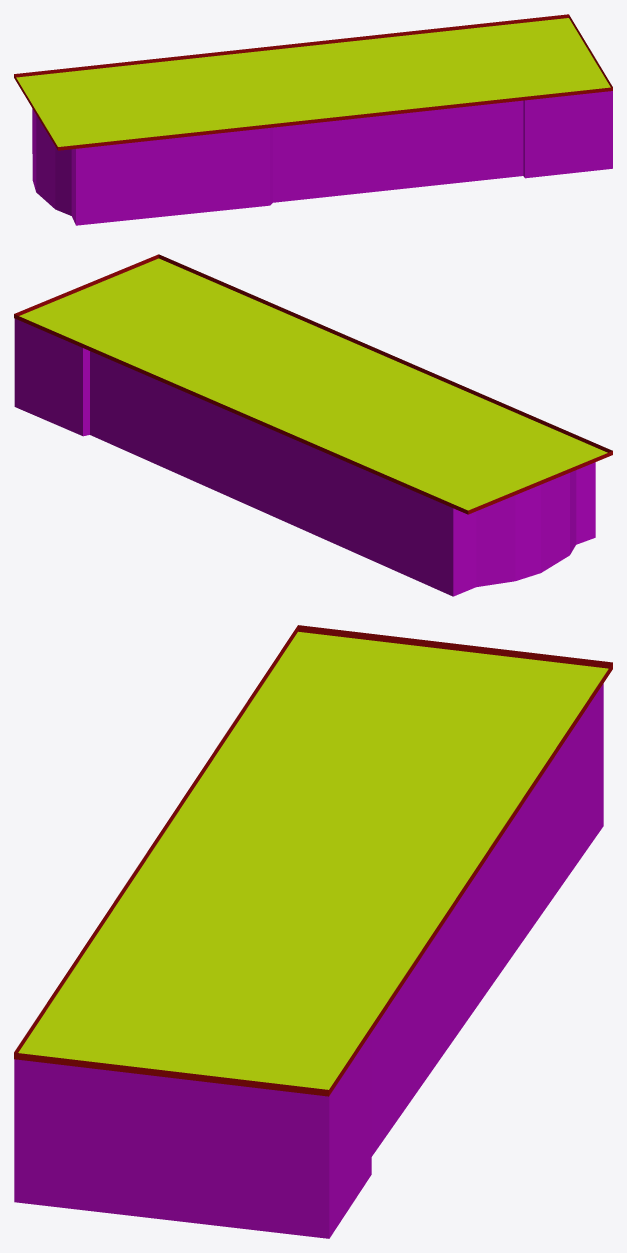
Rendered from bgj_369.glb.
The picture shows the model from 3 angles, top to bottom: view 1: azimuth 30°, elevation 25°; view 2: azimuth 150°, elevation 25°; view 3: azimuth 270°, elevation 25°; orthographic projection. The views are drawn at different scales.
Visible parts, largest first — view 1: bgj_369; view 2: bgj_369; view 3: bgj_369.
Boxes of the visible parts, x1,y1,x2,y2 form: bgj_369: (14,14,612,225); bgj_369: (14,254,612,596); bgj_369: (14,625,612,1238).
Size of the model in its own units: 52.38 by 7.86 by 28.52.
